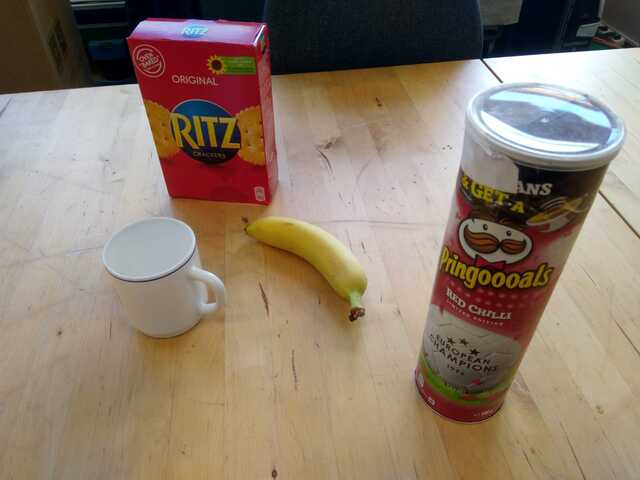001_chips_can: (413, 79, 631, 425)
003_cracker_box: (124, 12, 285, 206)
011_banana: (239, 213, 374, 325)
025_mug: (99, 214, 232, 343)
